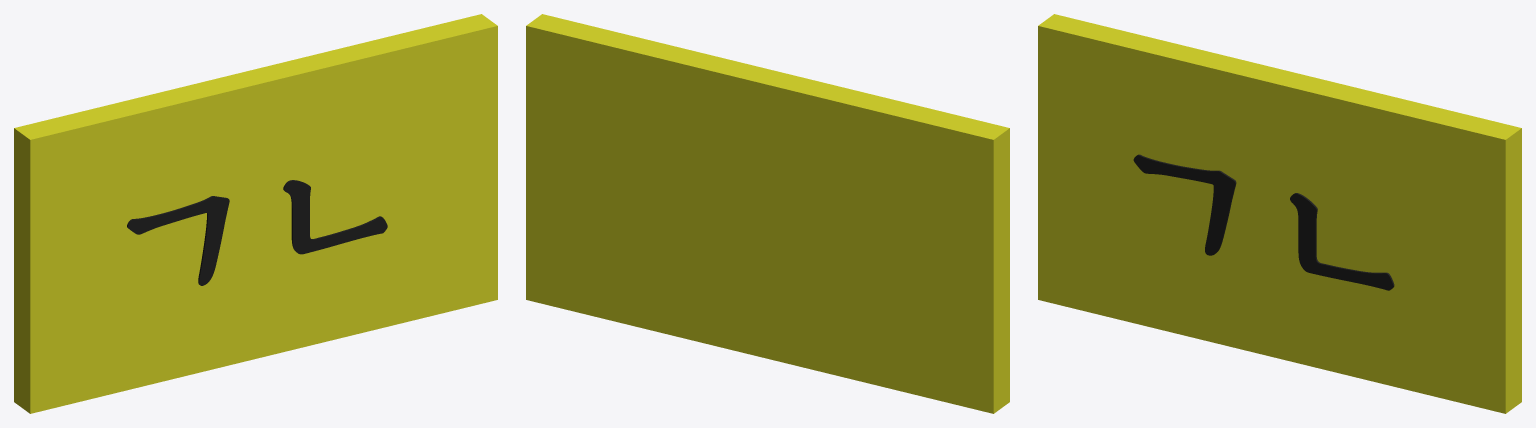
3 renders of one model, left to right at view 1: azimuth 30°, elevation 25°; view 2: azimuth 150°, elevation 25°; view 3: azimuth 330°, elevation 25°, orthographic.
Parts seen in each view (by area): view 1: Cube.015; view 2: Cube.015; view 3: Cube.015.
Boxes of the visible parts, x1,y1,x2,y2 form: Cube.015: (14,14,497,413); Cube.015: (526,14,1009,413); Cube.015: (1038,14,1521,413).
Size of the model in its own units: 10 by 5.6 by 0.64.
